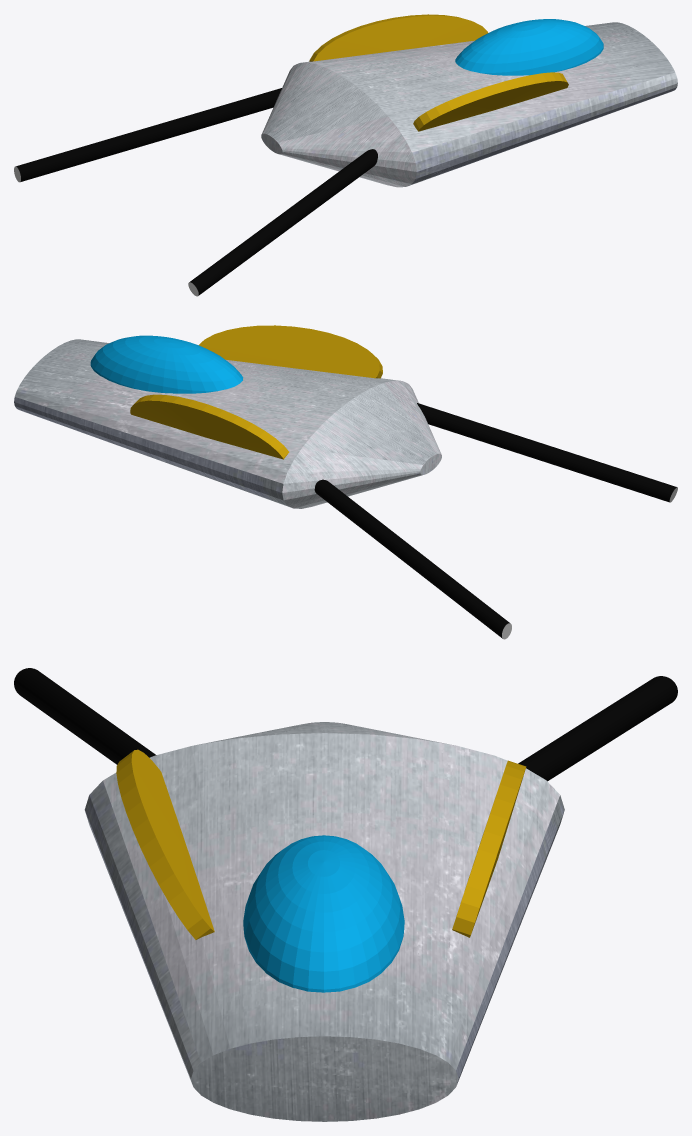
Rendered from pod1redy.obj.
3 views of the same model, one above another, from view 1: azimuth 30°, elevation 25°; view 2: azimuth 150°, elevation 25°; view 3: azimuth 270°, elevation 25° (orthographic). The views are drawn at different scales.
Visible parts, largest first — view 1: Sphere; view 2: Sphere; view 3: Sphere.
Part boxes in pixels (x1=…): Sphere: x1=14, y1=14, x2=677, y2=296; Sphere: x1=14, y1=325, x2=677, y2=639; Sphere: x1=14, y1=668, x2=677, y2=1121.
Size of the model in its own units: 4.82 by 1.03 by 2.77.
Materials: 2 (1 with a texture image).
